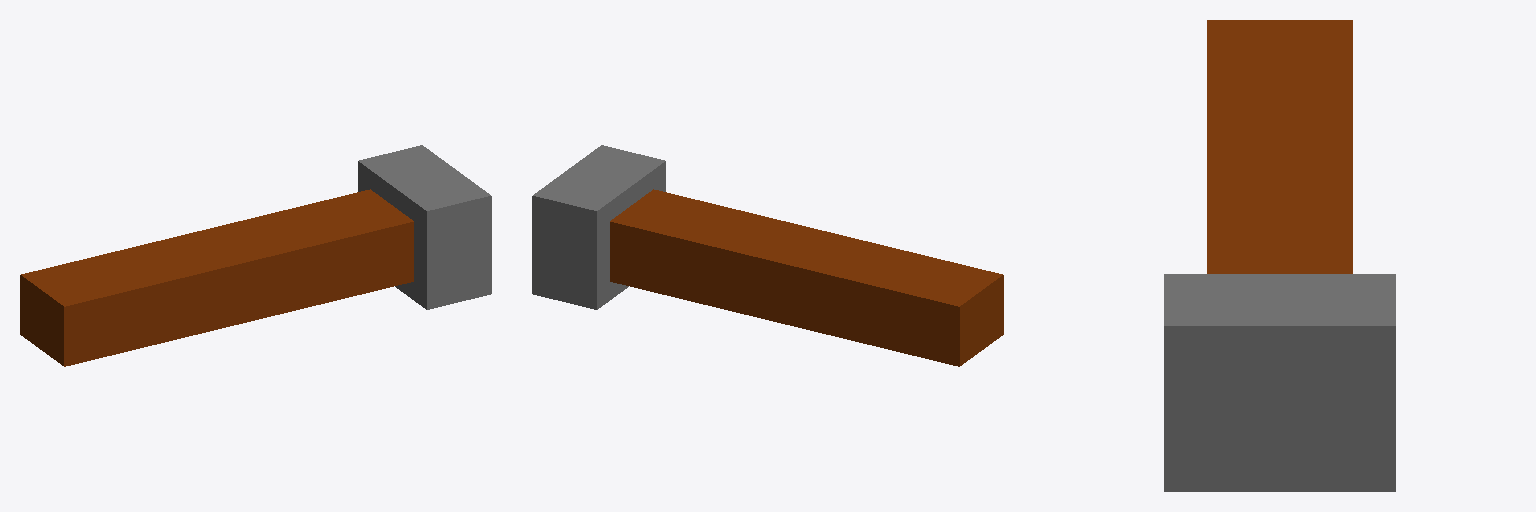
robot.urdf — handle_head:
<?xml version="1.0"?>
<robot name="handle_head">

  <link name="handle_head">
    <!-- Handle -->
    <visual>
              <origin xyz="0 0 0" rpy="0 0 0"/>
        <geometry>
          <box size="0.17776231172598103 0.038630817316422233 0.02921595917291817"/>
        </geometry>
        
      <material name="brown">
        <color rgba="0.55 0.27 0.07 1.0"/>
      </material>
    </visual>
    <collision>
              <origin xyz="0 0 0" rpy="0 0 0"/>
        <geometry>
          <box size="0.17776231172598103 0.038630817316422233 0.02921595917291817"/>
        </geometry>
        
    </collision>

    <!-- Head -->
    <visual>
              <origin xyz="0.10529188460522265 0 0" rpy="0 0 0"/>
        <geometry>
          <box size="0.032821457484464286 0.06080986711625311 0.04795450765468805"/>
        </geometry>
        
      <material name="gray">
        <color rgba="0.5 0.5 0.5 1.0"/>
      </material>
    </visual>
    <collision>
              <origin xyz="0.10529188460522265 0 0" rpy="0 0 0"/>
        <geometry>
          <box size="0.032821457484464286 0.06080986711625311 0.04795450765468805"/>
        </geometry>
        
    </collision>

    <inertial>
      <origin xyz="0.05293311280602689 0 0" rpy="0 0 0"/>
      <mass value="0.17971052300706325"/>
      <inertia ixx="6.262391632274003e-05" iyy="0.0007651744461955722" izz="0.0007804581930876971" ixy="0" ixz="0" iyz="0"/>
    </inertial>
  </link>

</robot>

--- Render facts (derived) ---
3 views of the same robot in one strip: view 1: azimuth 30°, elevation 25°; view 2: azimuth 150°, elevation 25°; view 3: azimuth 270°, elevation 25° (orthographic).
Robot: handle_head — 1 links, 0 joints (none); root link handle_head; default pose: every joint at zero.
Links seen in each view (by area): view 1: handle_head; view 2: handle_head; view 3: handle_head.
Boxes of the visible links, bbox=[...] form: handle_head: bbox=[20, 145, 491, 366]; handle_head: bbox=[532, 145, 1003, 366]; handle_head: bbox=[1164, 20, 1395, 491].
Size in the robot's own frame: 0.2106 by 0.0608 by 0.048 metres.
Geometry: primitives only (box / cylinder / sphere), no mesh files.
